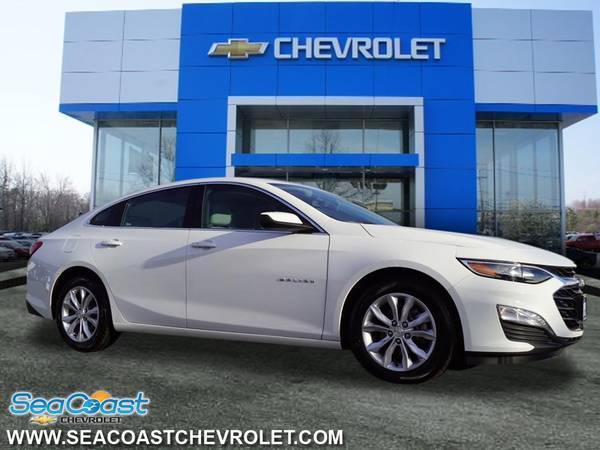Front_Bumper: (446, 270, 572, 357)
Front_Fender: (322, 226, 521, 348)
Front_Right_Door: (189, 230, 332, 350)
Front_Right_Window: (190, 186, 328, 236)
Grille: (537, 264, 588, 339)
Hood: (362, 224, 575, 267)
Rear_Bumper: (26, 281, 53, 321)
Rear_Fender: (27, 226, 101, 285)
Rear_Right_Door: (88, 226, 190, 333)
Rear_Right_Window: (86, 185, 198, 229)
Right_Headlight: (458, 259, 550, 283)
Roof: (42, 177, 341, 238)
Wheel: (348, 279, 455, 380), (55, 275, 108, 348)
